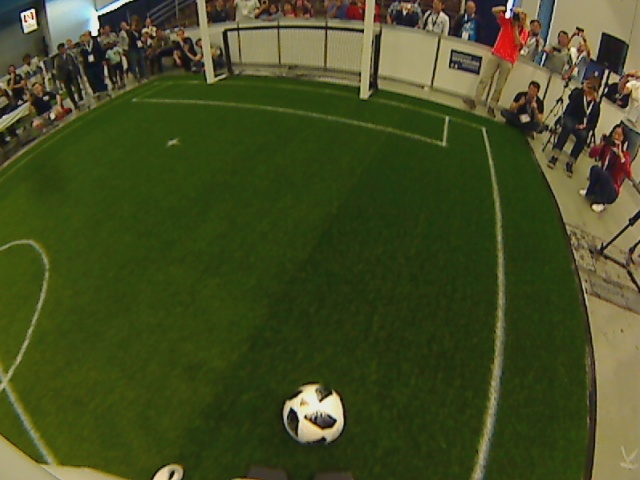ball: (277, 381, 347, 446)
goalpost: (195, 1, 378, 103)
